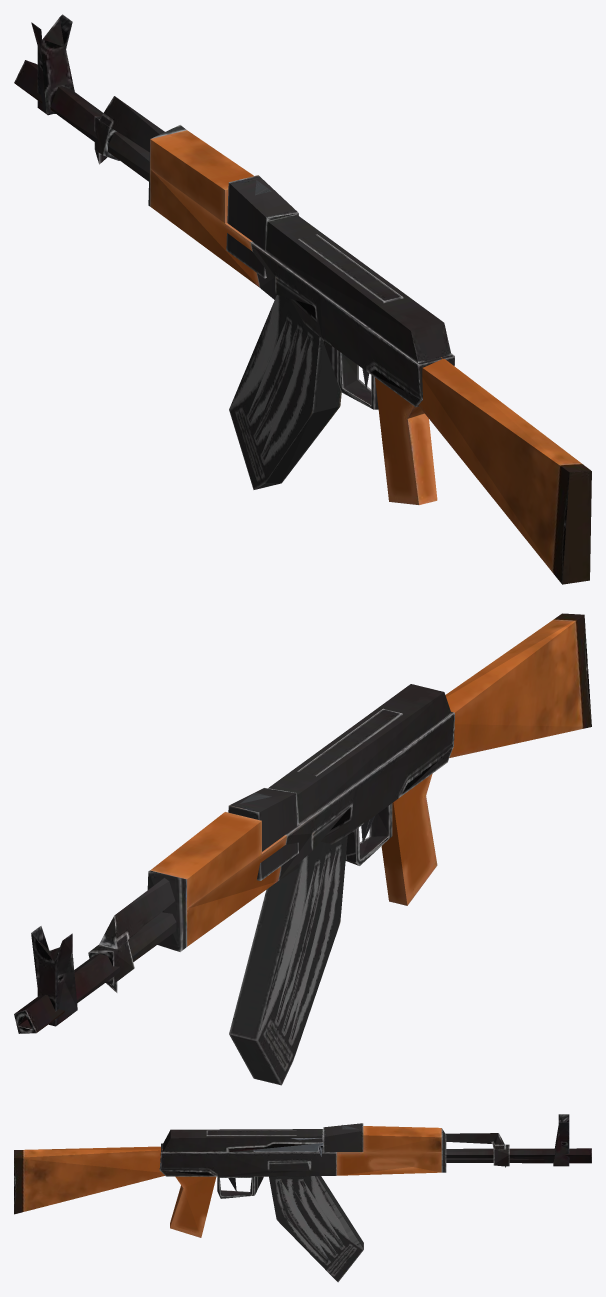
The model's file is world_akm.glb.
3 renders of one model, top to bottom at view 1: azimuth 30°, elevation 25°; view 2: azimuth 150°, elevation 25°; view 3: azimuth 270°, elevation 25°, orthographic. The views are drawn at different scales.
Parts seen in each view (by area): view 1: Bolt, Magazine.001; view 2: Bolt, Magazine.001; view 3: Bolt, Magazine.001.
Part boxes in pixels (x1,y1,x2,y2): Bolt: (14,14,591,584); Magazine.001: (229,295,341,489); Bolt: (14,613,591,1033); Magazine.001: (229,835,347,1085); Bolt: (14,1114,591,1237); Magazine.001: (269,1176,363,1282).
Bounding box in the file's own units: 0.0489 × 0.27 × 0.88.
2 materials, 2 textured.
